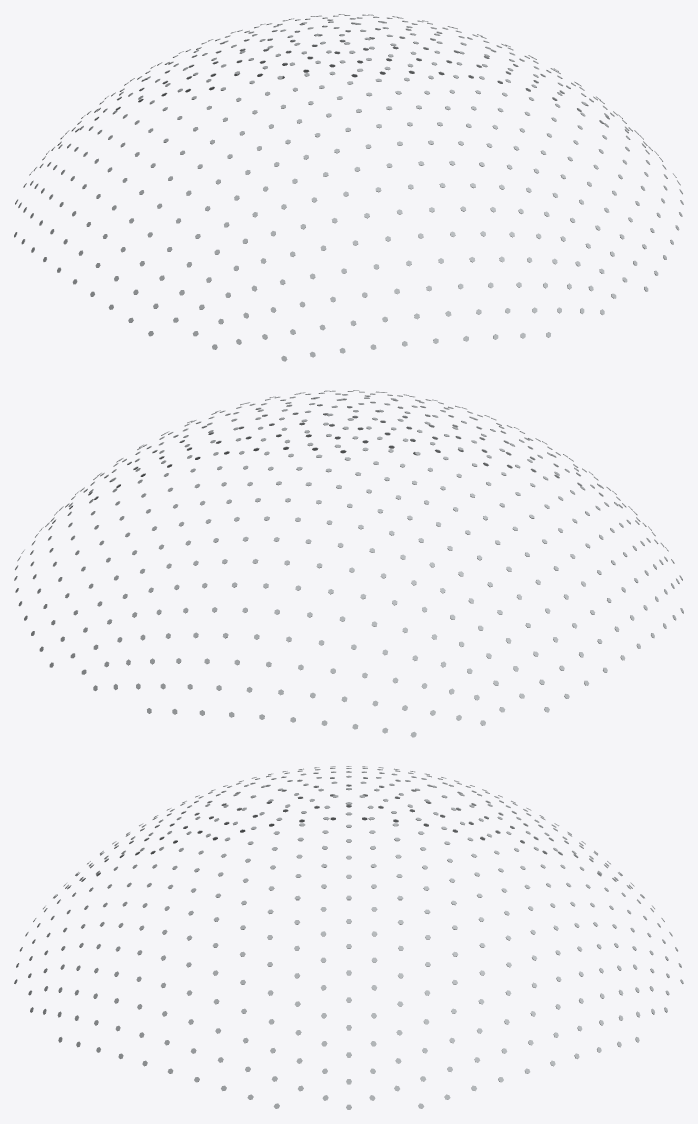
Rendered from DomePt01.dae.
3 views of the same model, one above another, from view 1: azimuth 30°, elevation 25°; view 2: azimuth 150°, elevation 25°; view 3: azimuth 270°, elevation 25° (orthographic).
Parts seen in each view (by area): view 1: DomePt01; view 2: DomePt01; view 3: DomePt01.
Boxes of the visible parts, box(x1,y1,x2,y2) form: DomePt01: box(14, 14, 683, 361); DomePt01: box(14, 390, 683, 737); DomePt01: box(14, 766, 683, 1109).
Size of the model in its own units: 200 by 202 by 55.61.
